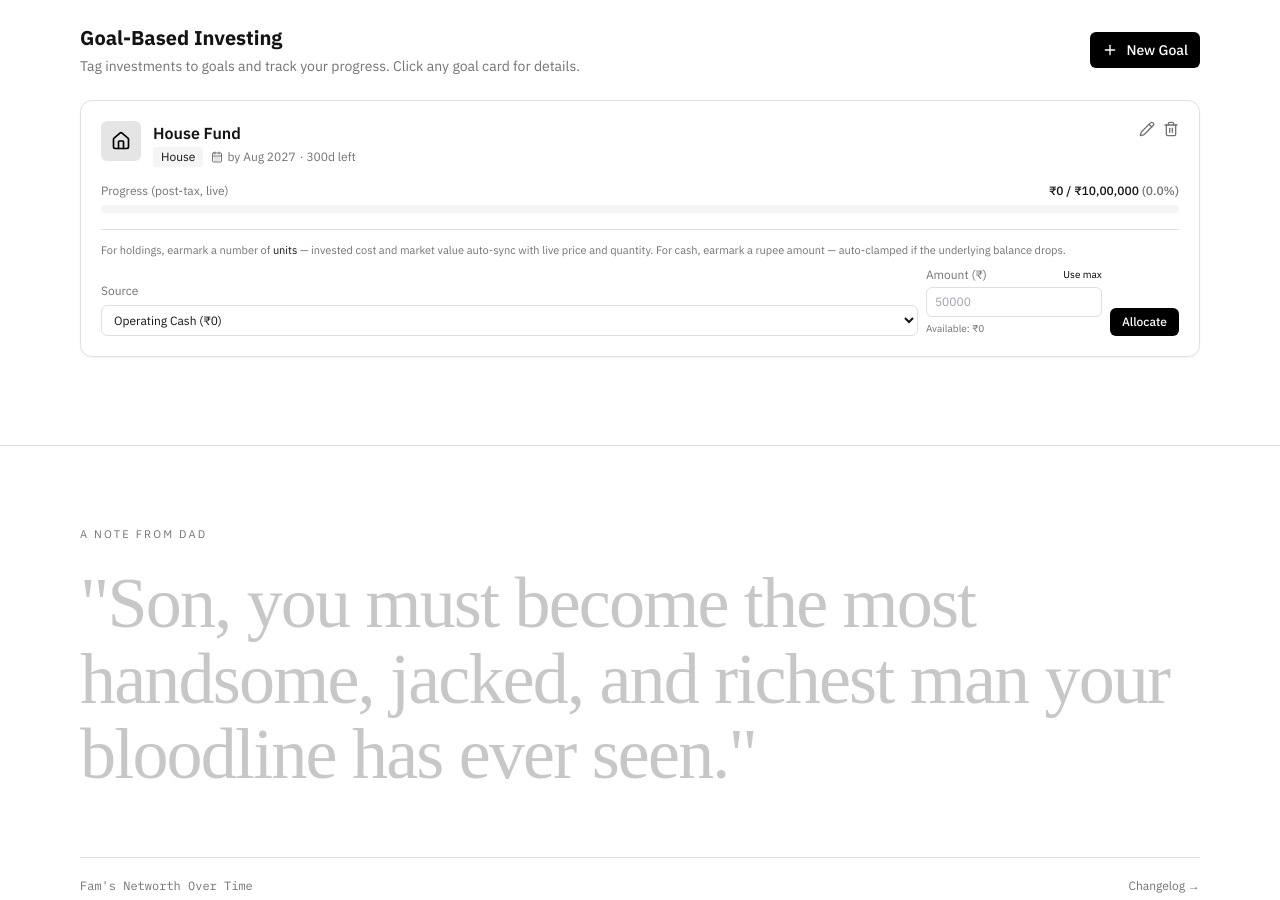
Scenario: GoalTrack — goal detail timeline › anchors "time used" to the goal's created_at → target_date span, not a fixed 365-day window
Click the heading "House Fund" at [197, 133], box [153, 123, 241, 143]
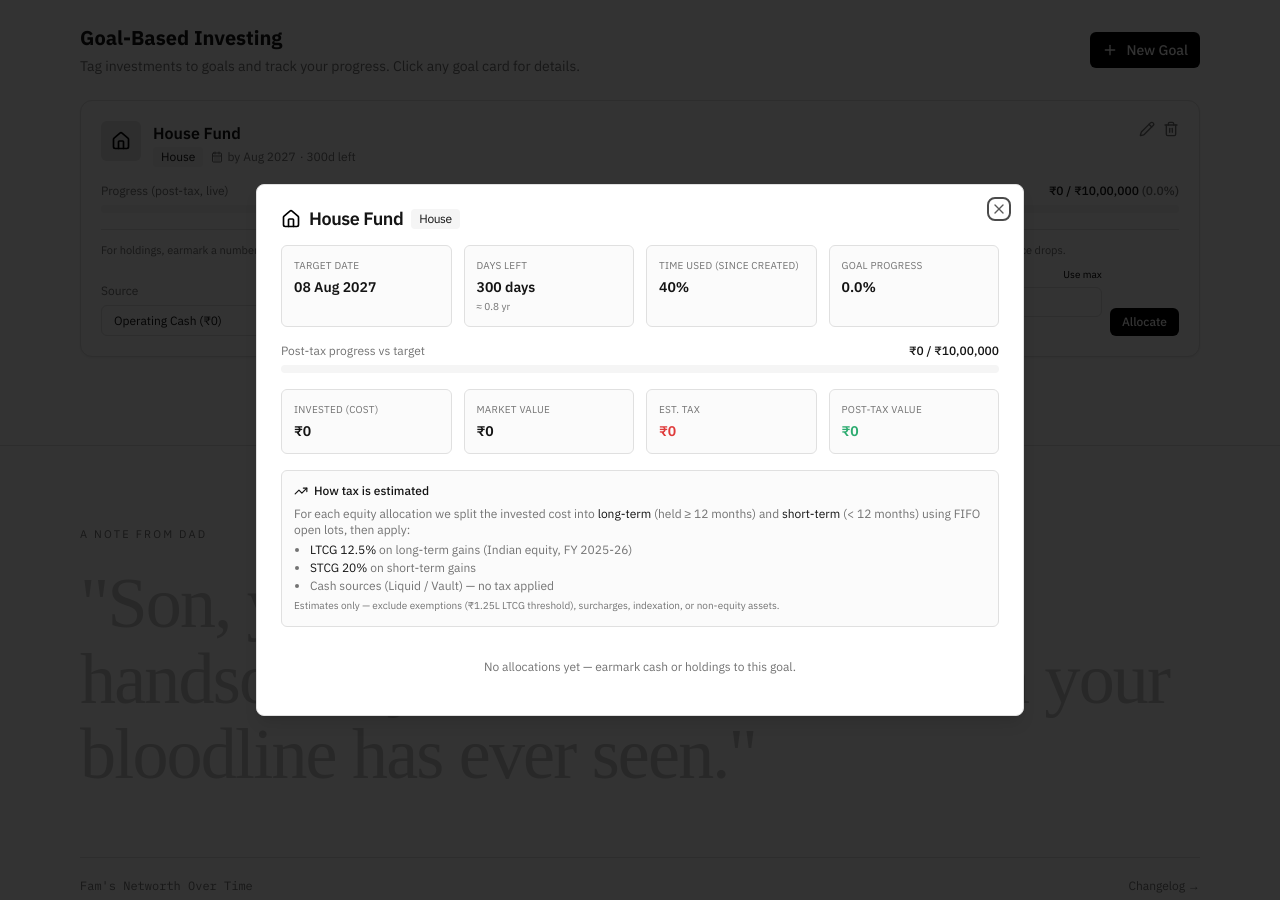
Expected: the text "Time Used (since created)" is shown, [659, 258, 804, 273]
Expected: the text "40%" is shown, [659, 278, 689, 296]
Expected: the text "300 days" is shown, [476, 278, 535, 296]
